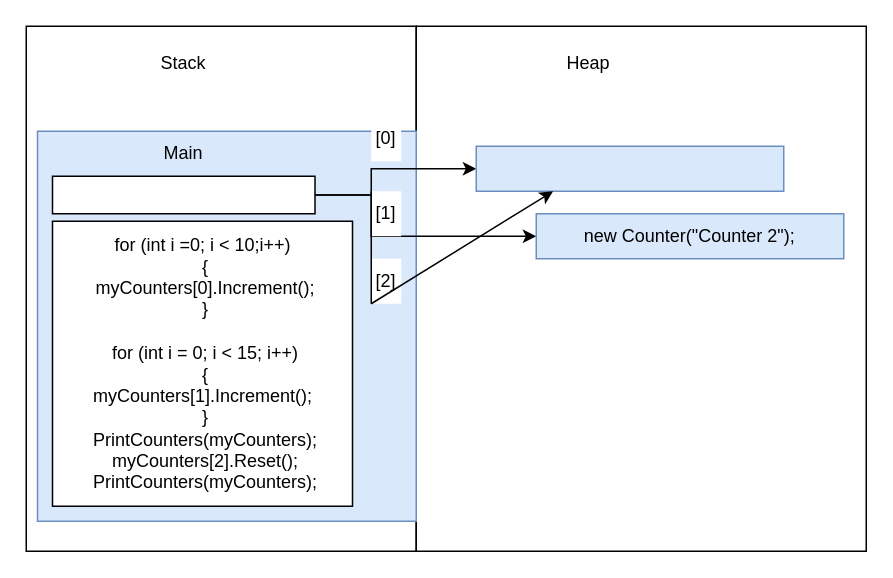
This 893x578 diagram has some shape labels left out. The shapes that lost their labels are listed below. From the top down, each one's centre as x and y in pixels, then its label:
the point at 629,168: new Counter("Counter 1");
the point at 183,194: Counter[] myCounters
